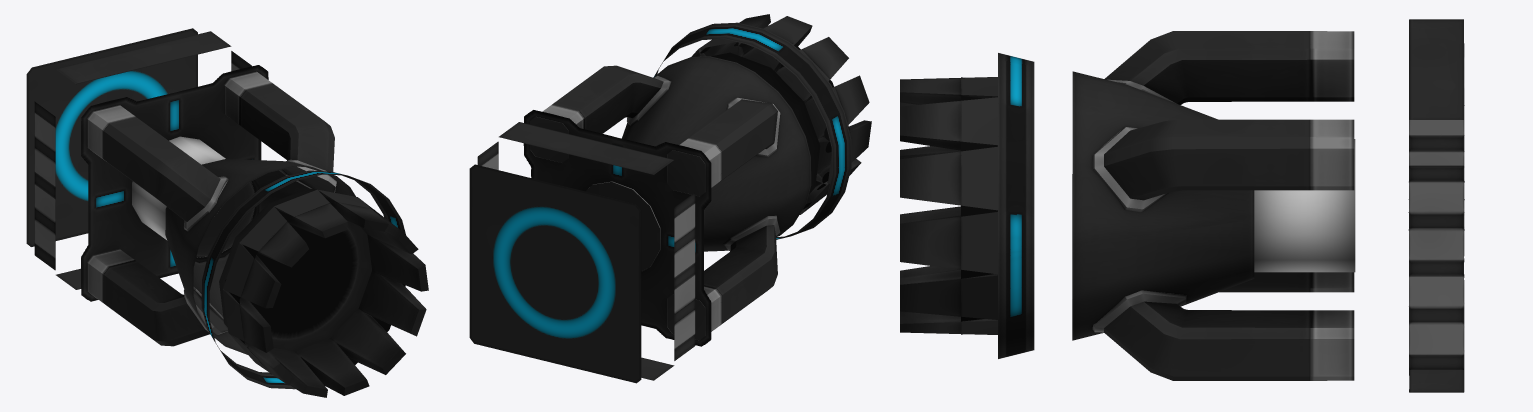
File: obj_interactive_thruster_04_off.fbx
The picture shows the model from 3 angles, left to right: view 1: azimuth 30°, elevation 25°; view 2: azimuth 150°, elevation 25°; view 3: azimuth 270°, elevation 25°; orthographic projection. The views are drawn at different scales.
Parts seen in each view (by area): view 1: obj_interactive_thruster_04_off; view 2: obj_interactive_thruster_04_off; view 3: obj_interactive_thruster_04_off.
Boxes of the visible parts, <box> form: obj_interactive_thruster_04_off: <box>26,28,428,397</box>; obj_interactive_thruster_04_off: <box>469,14,871,383</box>; obj_interactive_thruster_04_off: <box>900,19,1464,392</box>.
Size of the model in its own units: 2.03 by 2.03 by 4.12.
